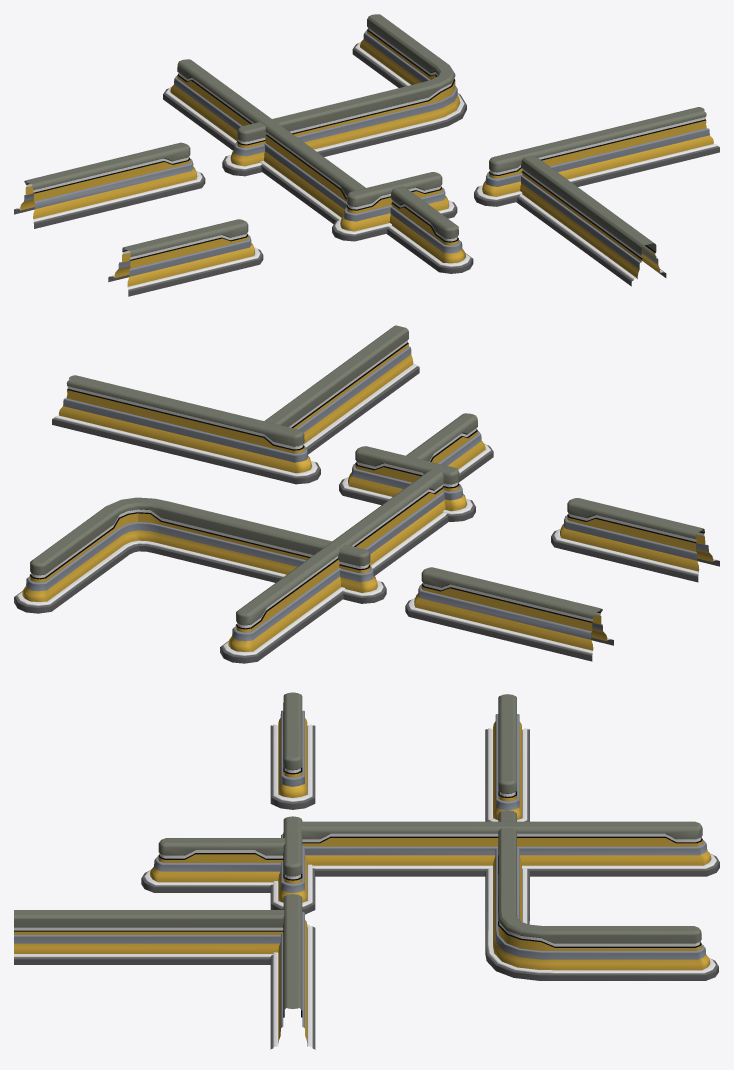
File: Level39_Small_walls.fbx
The picture shows the model from 3 angles, top to bottom: view 1: azimuth 30°, elevation 25°; view 2: azimuth 150°, elevation 25°; view 3: azimuth 270°, elevation 25°; orthographic projection. The views are drawn at different scales.
Visible parts, largest first — view 1: Small_wall_L66, Small_wallv1_46, Small_wallv1_45, Small_wallv1_21, Small_wall_L47, Small_wallv1_41, Small_wallv1_44, Small_wallv1_20; view 2: Small_wall_L66, Small_wallv1_46, Small_wallv1_45, Small_wallv1_21, Small_wallv1_41, Small_wall_L47, Small_wallv1_20, Small_wallv1_44; view 3: Small_wallv1_45, Small_wall_L66, Small_wall_L47, Small_wallv1_44, Small_wallv1_46, Small_wallv1_21, Small_wallv1_41, Small_wallv1_20.
Part boxes in pixels (bbox=[...]): Small_wall_L66: bbox=[222, 14, 466, 176]; Small_wallv1_46: bbox=[474, 107, 719, 206]; Small_wallv1_45: bbox=[163, 59, 365, 223]; Small_wallv1_21: bbox=[14, 142, 205, 228]; Small_wall_L47: bbox=[516, 155, 666, 286]; Small_wallv1_41: bbox=[108, 219, 263, 296]; Small_wallv1_44: bbox=[386, 186, 473, 273]; Small_wallv1_20: bbox=[332, 172, 457, 241]; Small_wall_L66: bbox=[14, 497, 386, 613]; Small_wallv1_46: bbox=[52, 375, 320, 484]; Small_wallv1_45: bbox=[220, 469, 448, 663]; Small_wallv1_21: bbox=[405, 567, 613, 661]; Small_wallv1_41: bbox=[551, 498, 719, 582]; Small_wall_L47: bbox=[264, 325, 419, 454]; Small_wallv1_20: bbox=[339, 446, 475, 521]; Small_wallv1_44: bbox=[406, 413, 493, 482]; Small_wallv1_45: bbox=[300, 821, 719, 876]; Small_wall_L66: bbox=[485, 810, 718, 980]; Small_wall_L47: bbox=[14, 910, 284, 964]; Small_wallv1_44: bbox=[141, 838, 285, 892]; Small_wallv1_46: bbox=[270, 894, 315, 1049]; Small_wallv1_21: bbox=[485, 694, 529, 821]; Small_wallv1_41: bbox=[270, 692, 315, 809]; Small_wallv1_20: bbox=[270, 816, 315, 914].
Size of the model in its own units: 592 by 39.69 by 545.
